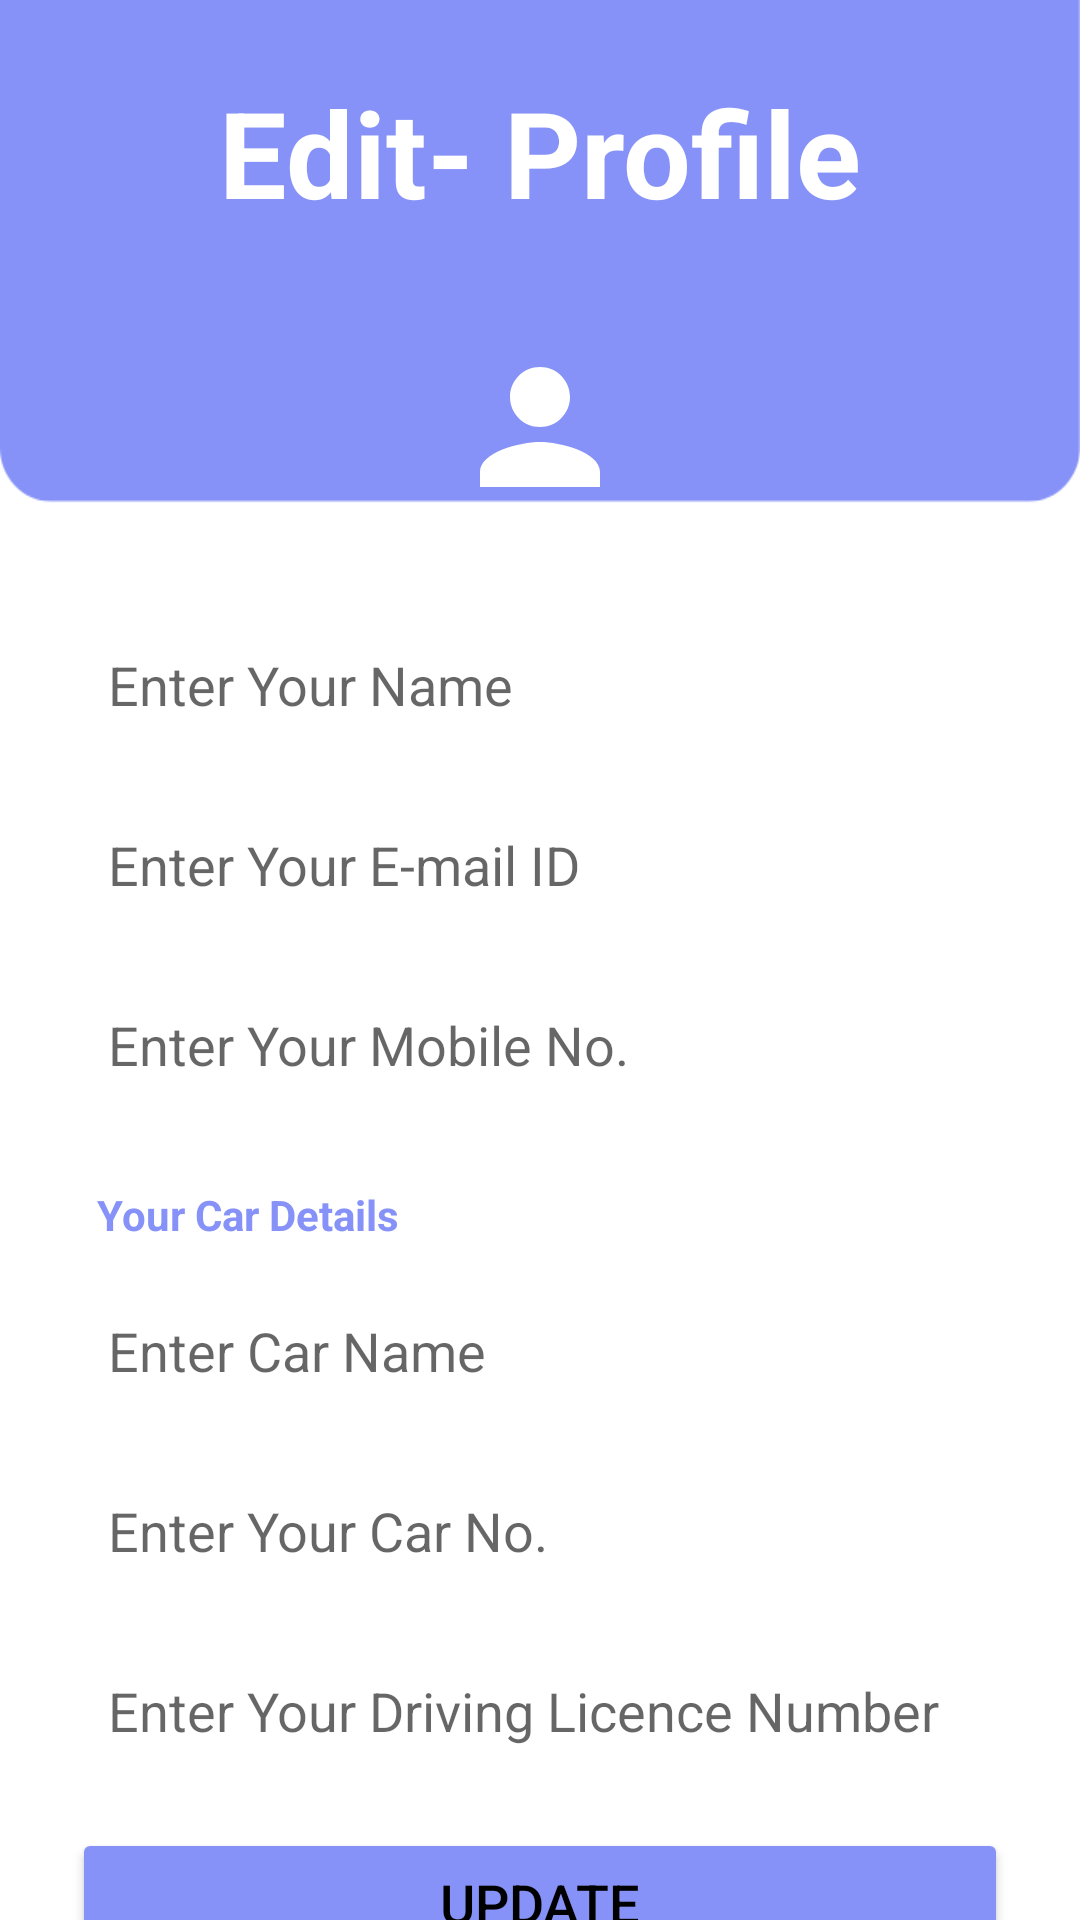

Where to tap for icons on this 1080px x 1920px app screen, as point (x, y):
person: point (540, 469)
